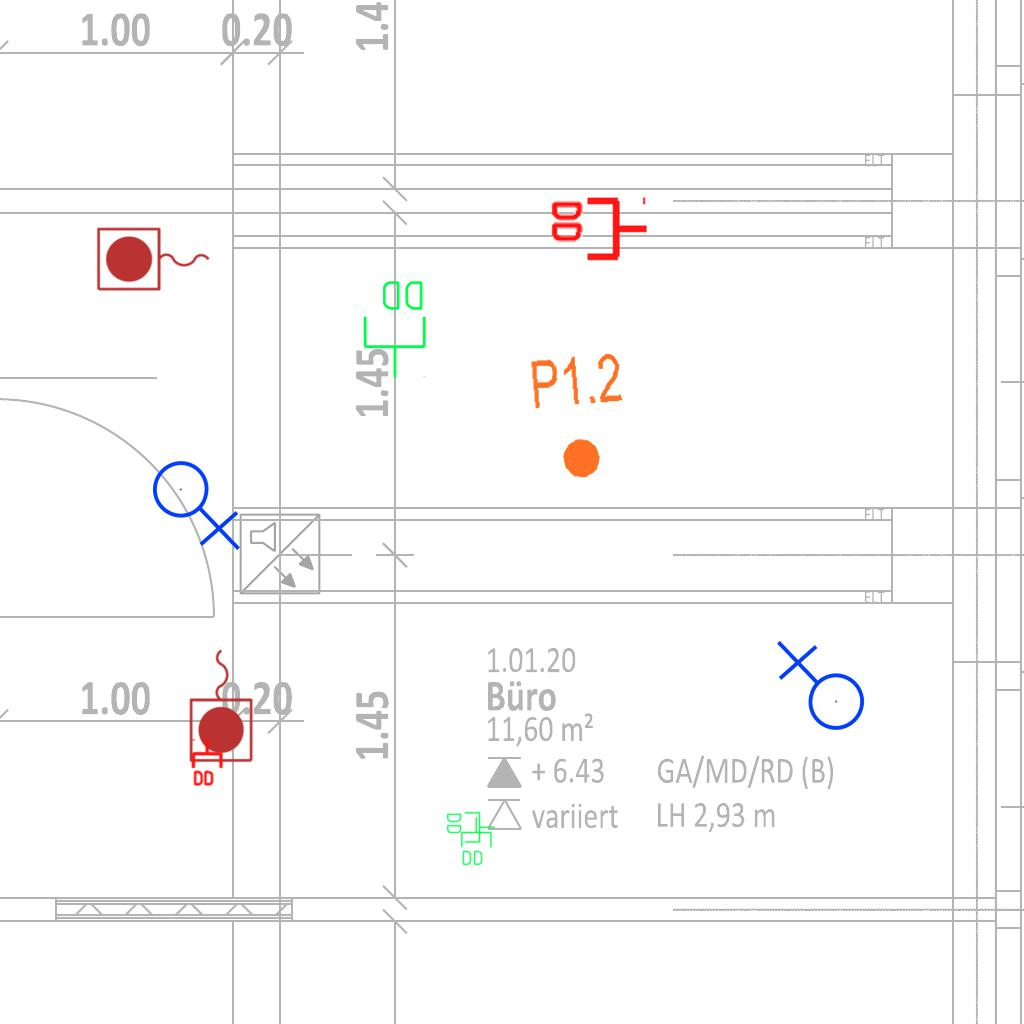Datenanschluss_zweifach: (361, 277, 430, 380), (547, 196, 650, 265), (445, 810, 496, 844), (191, 737, 225, 788), (459, 816, 493, 867)
Downlight_LED_Einbauleuchten_Flur: (527, 349, 632, 485)
Elektroanschluss_allgemein_230V_Geraeteanschlussdose_230V: (772, 640, 866, 739), (151, 452, 245, 551)
Zugtaster: (186, 644, 258, 766), (93, 224, 215, 296)
